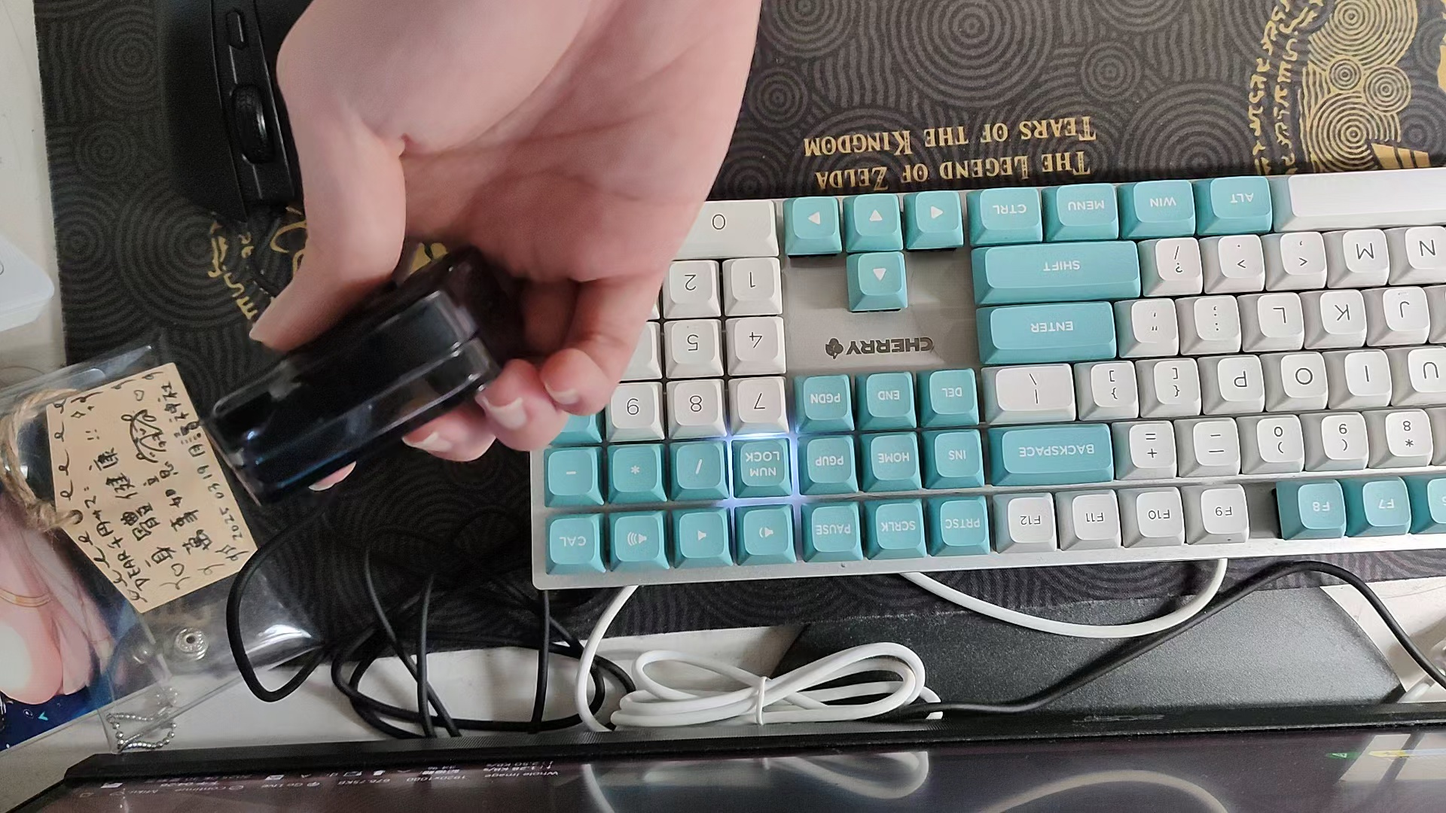Wireless_earphone: (211, 242, 527, 510)
